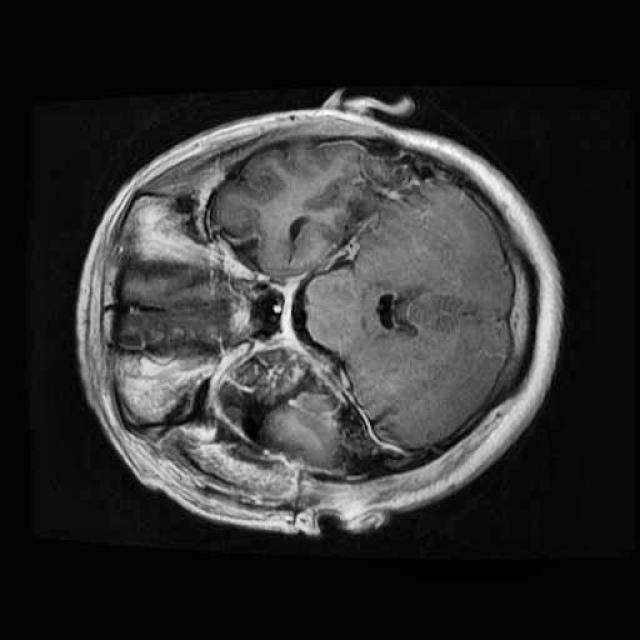Tumor: (206, 336, 386, 490)
